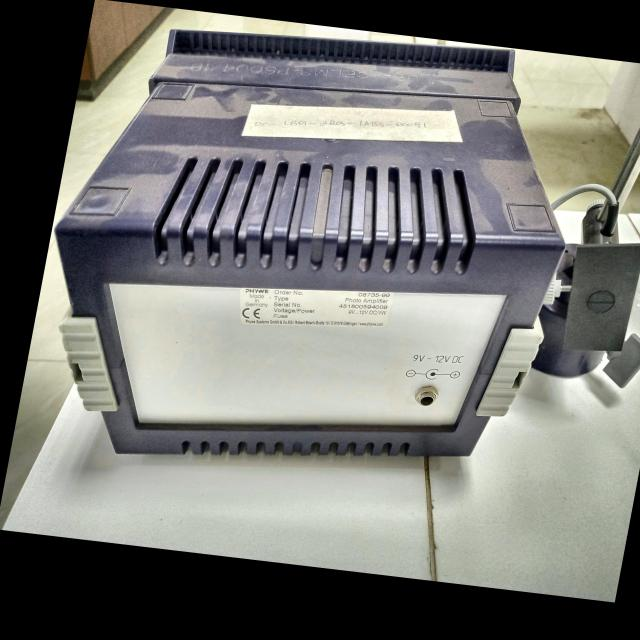Photo Amplifier Power Supply: (9, 2, 640, 524)
